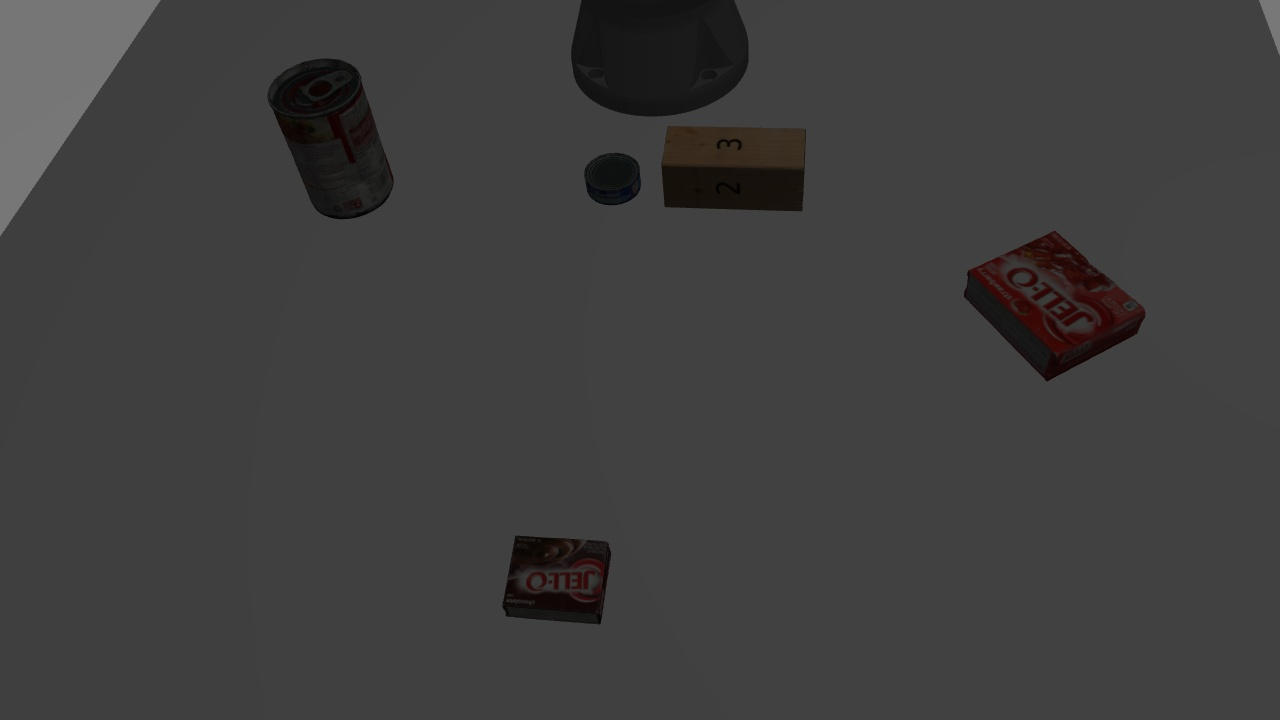gelatin_box: (937, 227, 1154, 382)
pudding_box: (500, 530, 613, 626)
tomato_soup_can: (262, 58, 403, 221)
tuna_fish_can: (576, 147, 643, 208)
wood_block: (654, 121, 809, 221)
